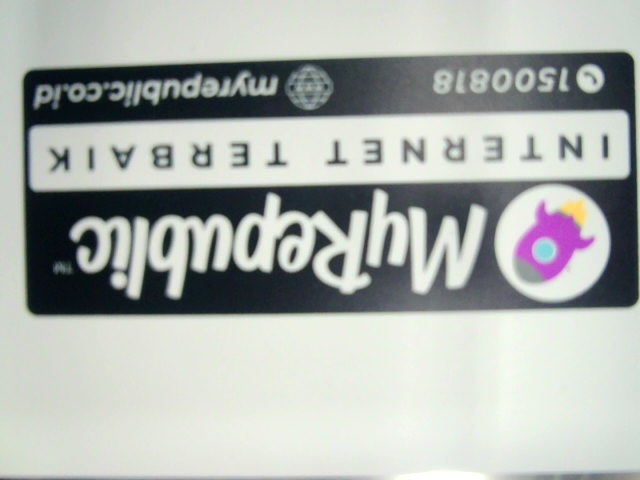BD_MyRepublic: (16, 57, 638, 308)
